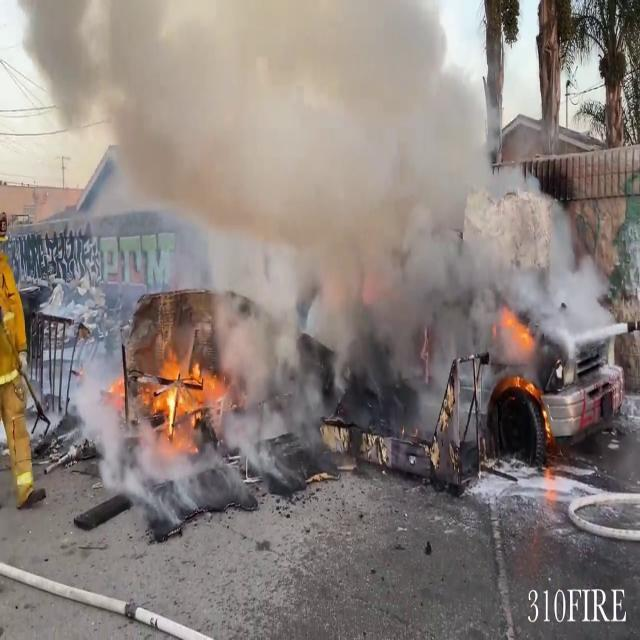Fire: (141, 336, 232, 452), (494, 300, 544, 400)
Smoke: (14, 0, 618, 416)
